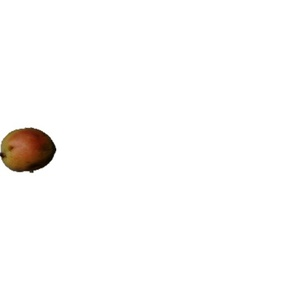mamão: (1, 126, 61, 177)
